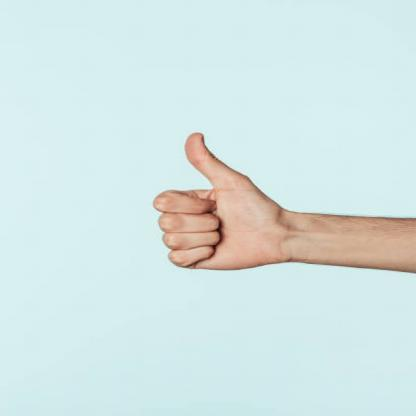thumb_up: (156, 130, 287, 274)
